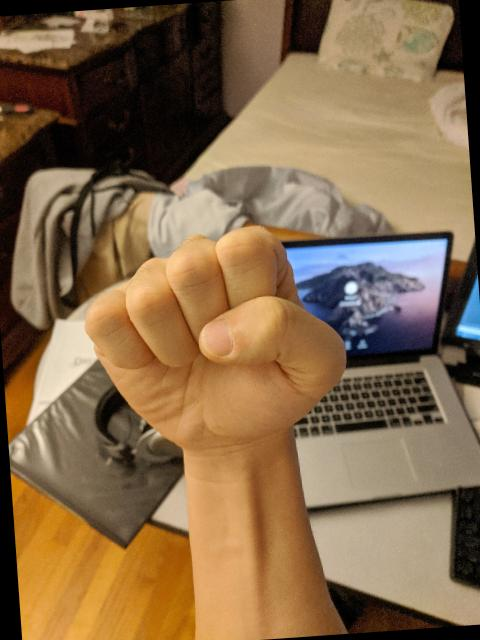S: (72, 211, 358, 465)
